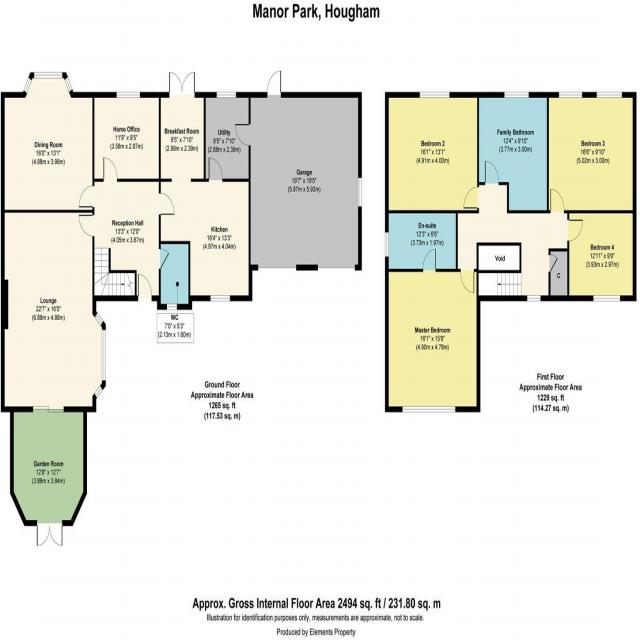DOOR: (137, 271, 153, 303), (266, 69, 283, 99), (233, 122, 252, 148), (207, 155, 224, 184), (459, 267, 476, 295), (566, 218, 584, 244), (158, 191, 176, 216), (550, 187, 566, 215), (103, 156, 119, 183), (78, 184, 95, 209), (78, 213, 95, 238), (463, 185, 480, 210), (422, 247, 437, 273), (158, 247, 170, 271)
ROOM: (158, 70, 255, 302), (0, 210, 107, 415), (384, 247, 481, 413), (1, 71, 95, 214), (385, 91, 480, 214), (9, 403, 89, 548), (546, 91, 637, 213), (567, 209, 637, 302), (92, 91, 161, 183)
SLIDING DOOR: (168, 70, 196, 98), (32, 405, 64, 413)
WINDOW: (401, 405, 456, 414), (419, 90, 451, 100), (101, 329, 107, 382), (503, 90, 530, 100), (116, 90, 141, 100), (33, 71, 63, 79), (593, 294, 621, 302), (23, 75, 33, 95), (558, 91, 583, 99), (357, 176, 363, 209), (210, 294, 231, 303), (216, 90, 237, 99), (93, 384, 104, 400), (64, 75, 73, 94), (94, 311, 104, 327), (526, 294, 542, 303), (166, 302, 178, 311)
